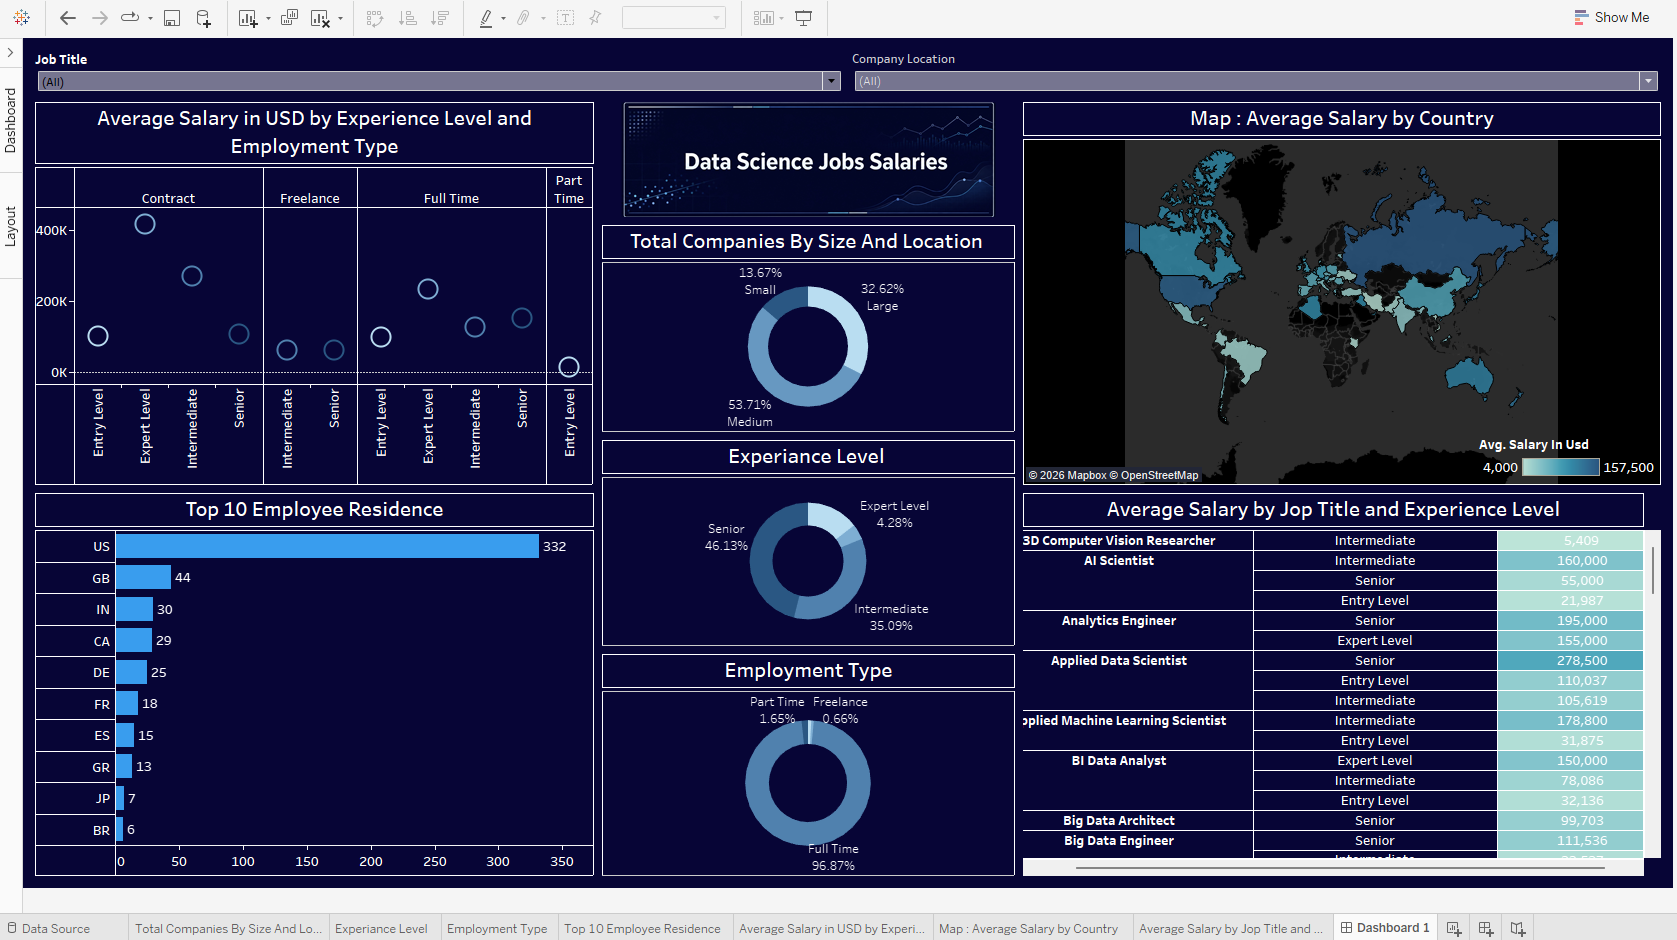

Layout of this report page (visuals, bound fields, positions):
{"tool":"tableau","page":{"name":"Dashboard 1","canvas":[1650,850],"ordinal":0},"visuals":[{"type":"filter","title":"Map : Average Salary by Country","param":"[federated.0q1w1y21l1cuoj1gh47ke09i7a68].[none:job_title:nk]","box":[8,8,817,51.9]},{"type":"filter","title":"Total Companies By Size And Location ","param":"[federated.0q1w1y21l1cuoj1gh47ke09i7a68].[none:company_location:nk]","box":[825,8,817,51.9]},{"type":"worksheet","title":"Average Salary in USD by Experience Level and Employment Type","mark":"Shape","rows":["salary_in_usd"],"cols":["employment_type","experience_level"],"box":[8,59.9,567,391.1]},{"type":"image","param":"C:/Users/mohamed/Downloads/22.png","box":[575,59.9,421,122.8]},{"type":"worksheet","title":"Map : Average Salary by Country","mark":"Automatic","box":[996,59.9,646,391.1]},{"type":"worksheet","title":"Total Companies By Size And Location ","mark":"Pie","rows":["Calculation_955326111485190146","Calculation_955326111485190146"],"box":[575,182.7,421,215.3]},{"type":"legend","title":"Map : Average Salary by Country","param":"[federated.0q1w1y21l1cuoj1gh47ke09i7a68].[avg:salary_in_usd:qk]","box":[1456,397,180,52]},{"type":"worksheet","title":"Experiance Level ","mark":"Pie","rows":["Calculation_955326111485190146","Calculation_955326111485190146"],"box":[575,398,421,214]},{"type":"worksheet","title":"Top 10 Employee Residence","mark":"Automatic","rows":["employee_residence"],"cols":["employee_residence"],"box":[8,450.9,567,391.1]},{"type":"worksheet","title":"Average Salary by Jop Title and Experience Level","mark":"Square","rows":["job_title","experience_level"],"box":[996,450.9,646,391.1]},{"type":"worksheet","title":"Employment Type","mark":"Pie","rows":["Calculation_955326111485190146","Calculation_955326111485190146"],"box":[575,612,421,230]}]}

Visuals, with their boxes in screenshot pixels (x1, y1, x2, y2):
"Map : Average Salary by Country" filter: l=21, t=34, r=840, b=86
"Total Companies By Size And Location " filter: l=840, t=34, r=1659, b=86
"Average Salary in USD by Experience Level and Employment Type" worksheet (Shape marks): l=21, t=86, r=589, b=478
image: l=589, t=86, r=1011, b=209
"Map : Average Salary by Country" worksheet: l=1011, t=86, r=1659, b=478
"Total Companies By Size And Location " worksheet (Pie marks): l=589, t=209, r=1011, b=425
"Map : Average Salary by Country" legend: l=1472, t=424, r=1653, b=476
"Experiance Level " worksheet (Pie marks): l=589, t=425, r=1011, b=640
"Top 10 Employee Residence" worksheet: l=21, t=478, r=589, b=870
"Average Salary by Jop Title and Experience Level" worksheet (Square marks): l=1011, t=478, r=1659, b=870
"Employment Type" worksheet (Pie marks): l=589, t=640, r=1011, b=870
